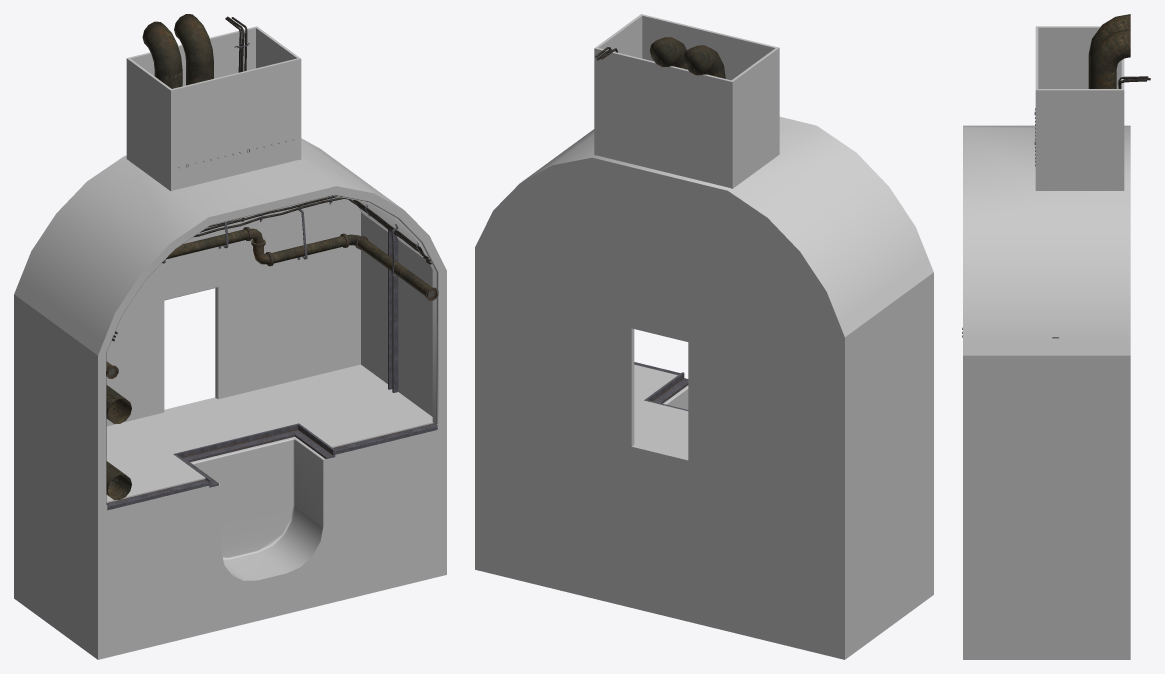
The model's file is SM_Sewer_Tunnel_G.fbx.
3 views of the same model, side by side, from view 1: azimuth 30°, elevation 25°; view 2: azimuth 150°, elevation 25°; view 3: azimuth 270°, elevation 25° (orthographic). The views are drawn at different scales.
Visible parts, largest first — view 1: SMD_Sewer_Base_G_00, Walls, Ceiling, Pipes_Big, SMD_Sewer_Halo_10, Bulks_floor, Pipes_Small, Rubber, Bulks_Wall, Pipes_small_caps; view 2: Ceiling, SMD_Sewer_Base_G_00, Walls, Pipes_Big, Bulks_floor; view 3: Ceiling, SMD_Sewer_Base_G_00, Walls, Pipes_Big.
Boxes of the visible parts, x1,y1,x2,y2 form: SMD_Sewer_Base_G_00: (14,364,446,659); Walls: (14,212,446,507); Ceiling: (14,26,446,355); Pipes_Big: (106,14,213,499); SMD_Sewer_Halo_10: (102,190,442,506); Bulks_floor: (106,423,437,510); Pipes_Small: (106,228,436,377); Rubber: (112,16,431,341); Bulks_Wall: (388,230,398,392); Pipes_small_caps: (106,227,438,378); Ceiling: (475,14,933,337); SMD_Sewer_Base_G_00: (475,364,933,659); Walls: (475,247,933,498); Pipes_Big: (649,37,725,78); Bulks_floor: (634,362,688,410); Ceiling: (963,26,1130,355); SMD_Sewer_Base_G_00: (963,507,1130,659); Walls: (963,355,1130,507); Pipes_Big: (1088,14,1130,88).
Bounding box in the file's own units: 720 × 1070 × 337.
